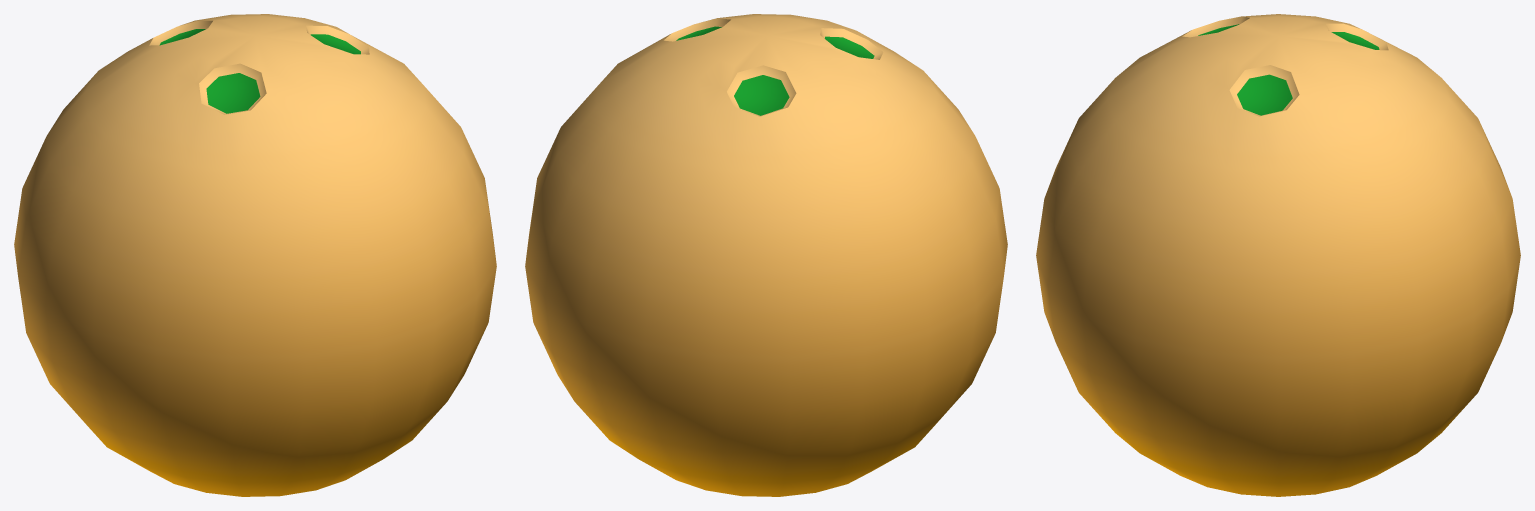
File: Coconut.fbx
The picture shows the model from 3 angles, left to right: view 1: azimuth 30°, elevation 25°; view 2: azimuth 150°, elevation 25°; view 3: azimuth 270°, elevation 25°; orthographic projection.
Parts seen in each view (by area): view 1: Coconut; view 2: Coconut; view 3: Coconut.
Boxes of the visible parts, x1,y1,x2,y2 form: Coconut: [14, 14, 496, 496]; Coconut: [525, 14, 1007, 496]; Coconut: [1036, 14, 1520, 496].
Bounding box in the file's own units: 120 × 120 × 120.
